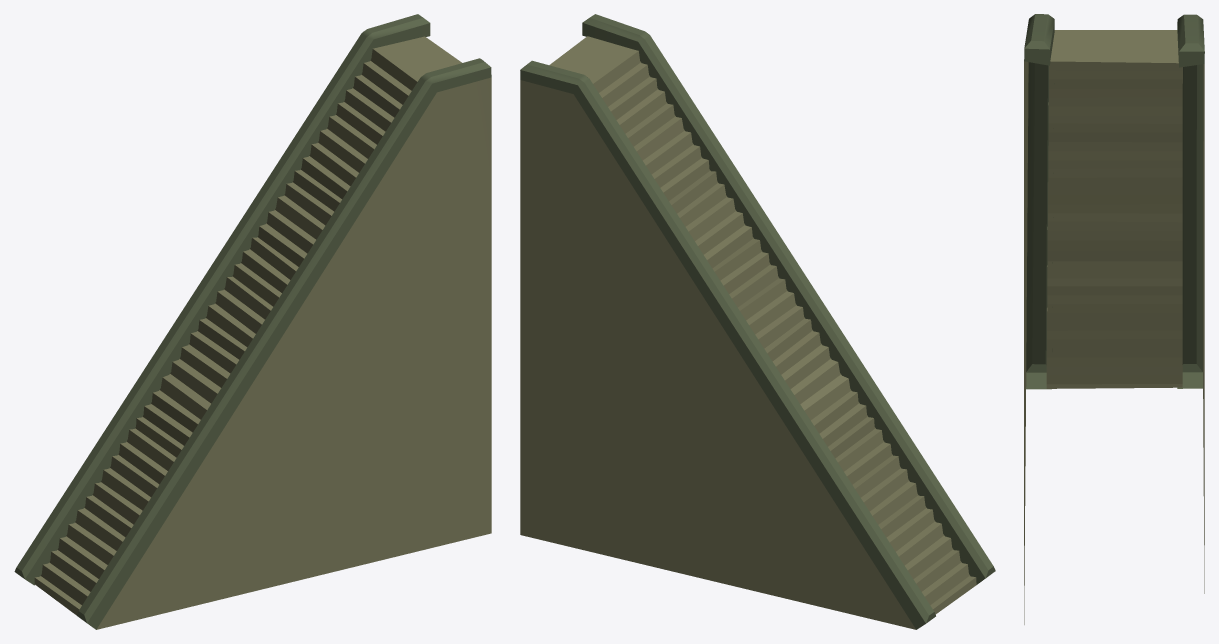
File: Ladder.fbx
3 views of the same model, side by side, from view 1: azimuth 30°, elevation 25°; view 2: azimuth 150°, elevation 25°; view 3: azimuth 270°, elevation 25° (orthographic). The views are drawn at different scales.
Visible parts, largest first — view 1: polySurface539; view 2: polySurface539; view 3: polySurface539.
Part boxes in pixels (<box>): polySurface539: <box>14,14,491,629</box>; polySurface539: <box>520,14,995,629</box>; polySurface539: <box>1024,14,1204,624</box>.
Size of the model in its own units: 16.85 by 18.68 by 5.22.
